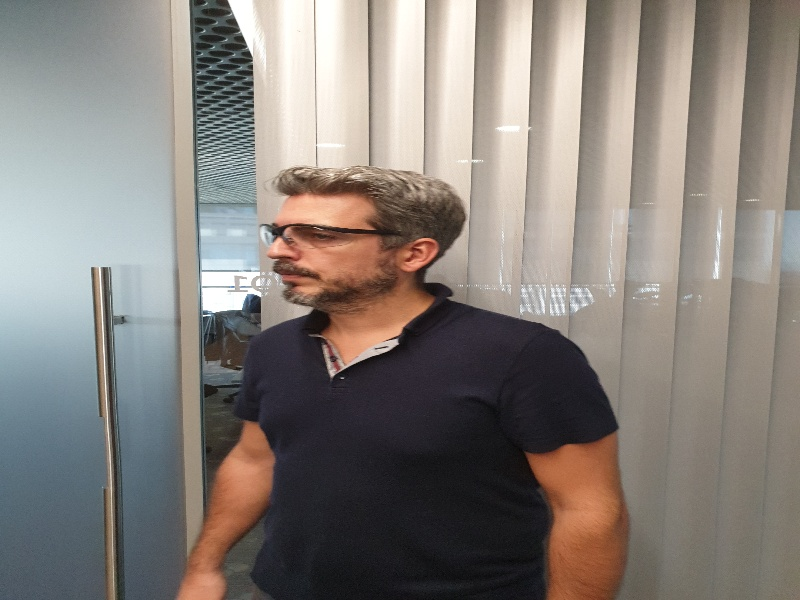Gozluk: (252, 222, 391, 251)
